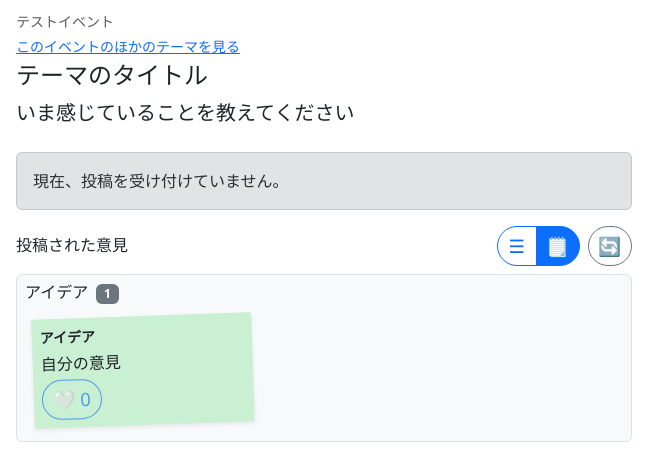
Test: 参加者の画面 › 投稿を受け付けていないときは、削除だけできる(一覧で)
This screenshot has width=649, height=459.
Click the button named "一覧" at (517, 246), box [497,226,537,266]
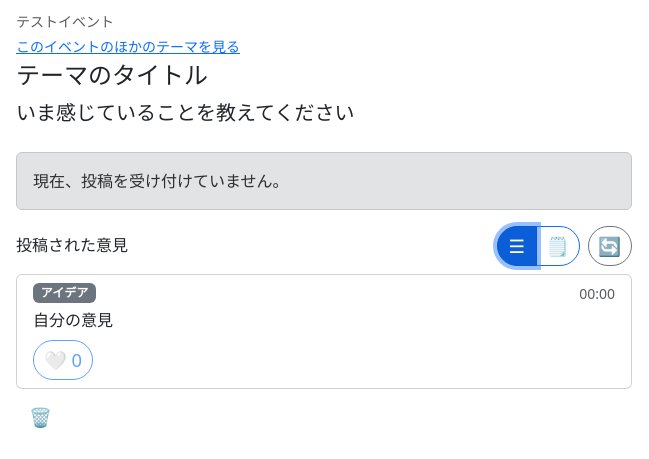
Expected: the text "自分の意見" is shown, [33,309,113,331]
Result: the button named "削除する" is shown at [20,397,60,437]
